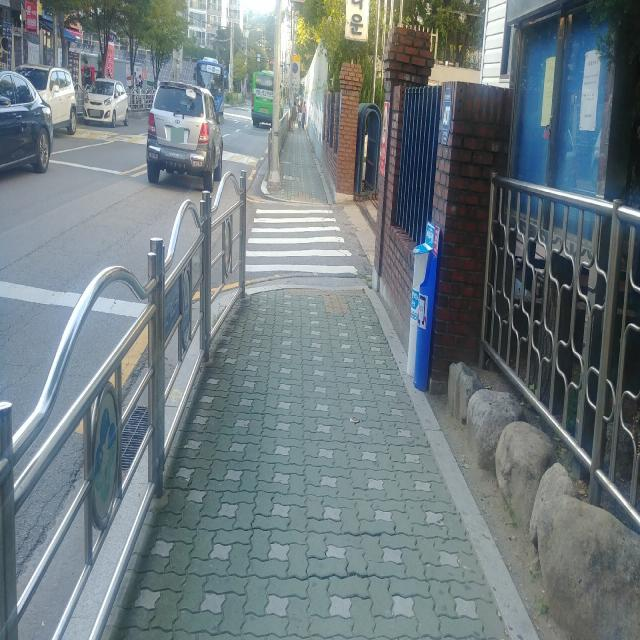횡단보도: (245, 208, 359, 276)
